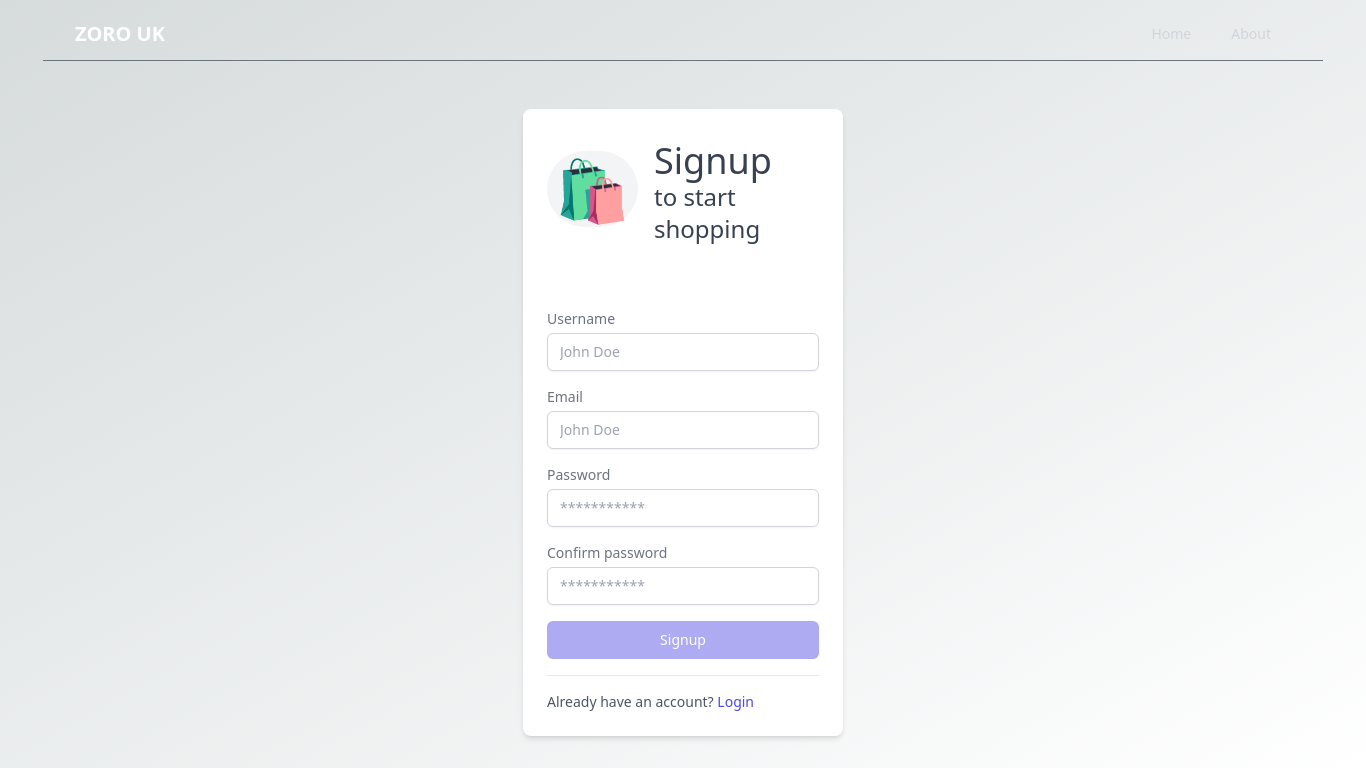
Test: SignupPage › displays banner if password and confirm password do not match
Type "john doe" into the field with id "username" at (683, 352), box left=547, top=333, right=819, bottom=371
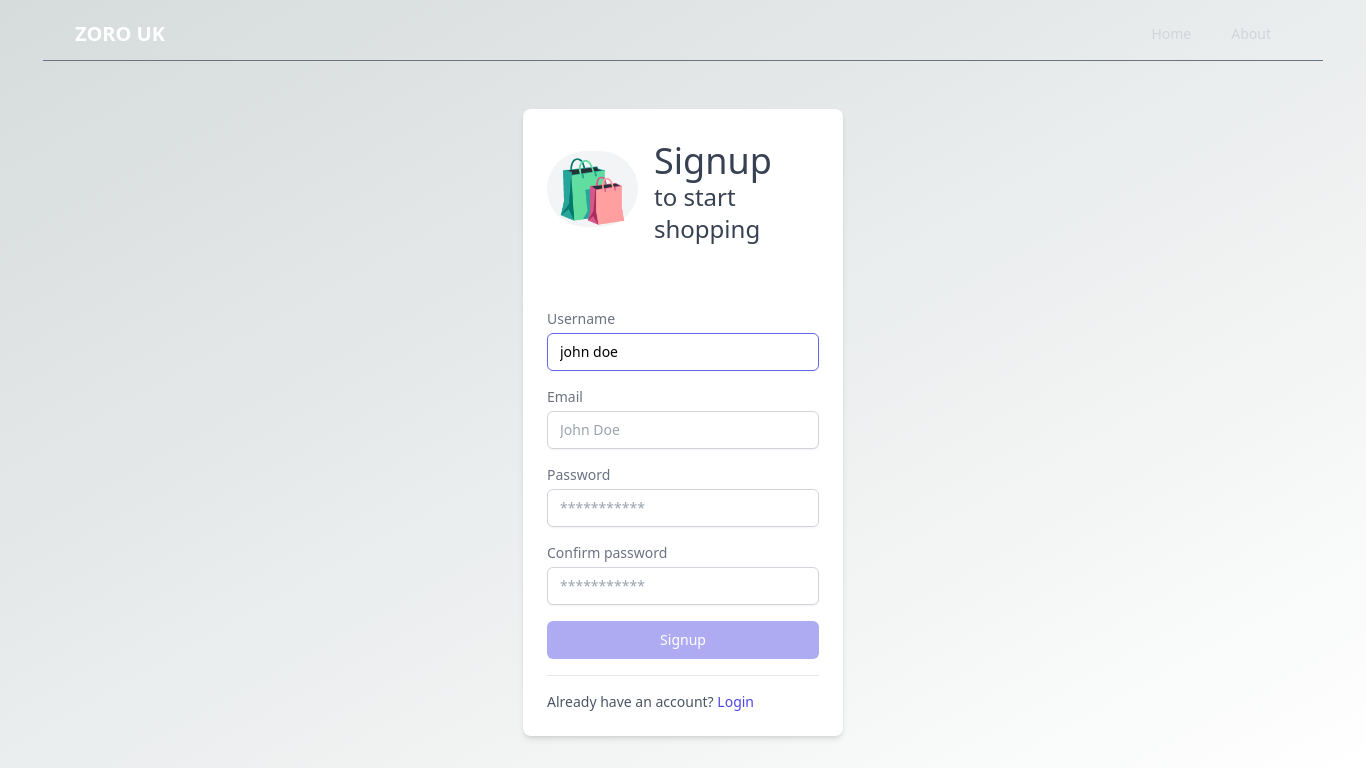
Type "test@example.com" into the field with id "emailname" at (683, 430), box left=547, top=411, right=819, bottom=449
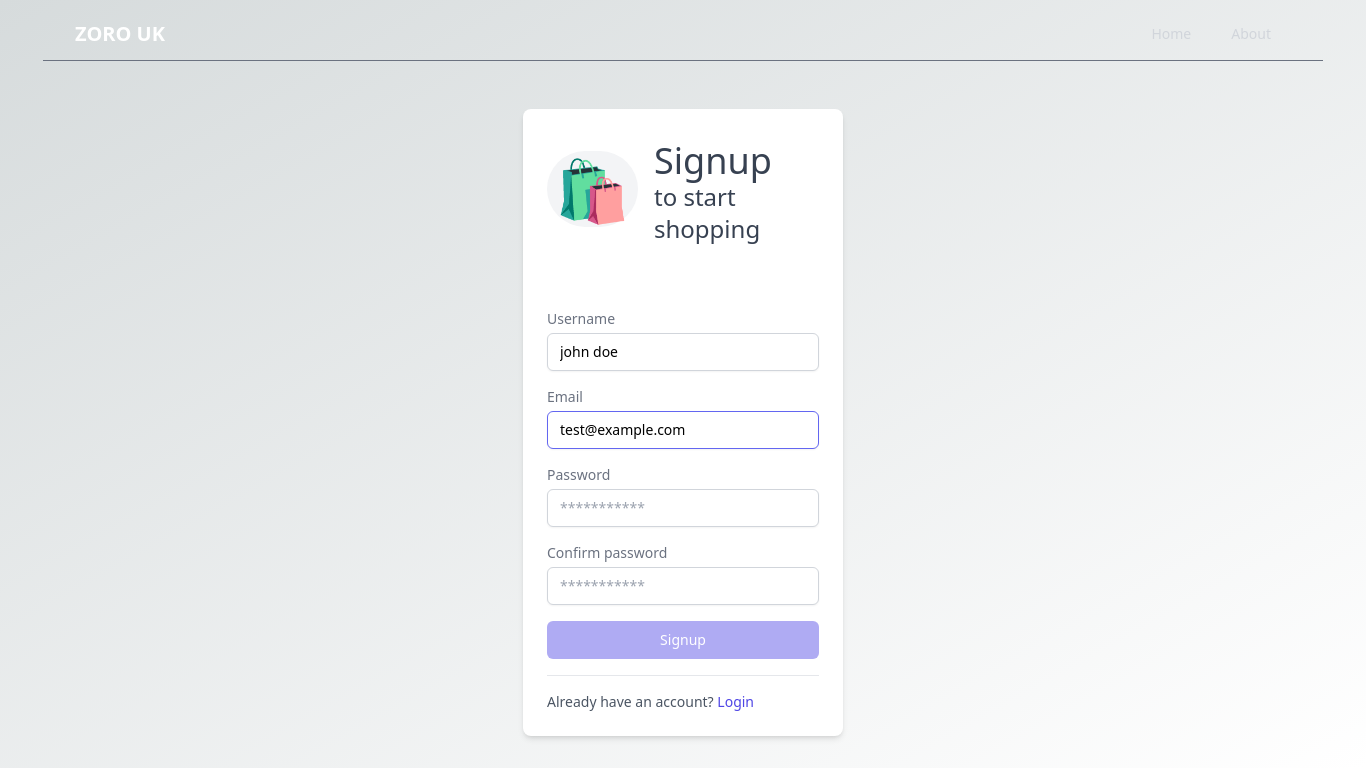
Type "password123" into the password field labelled "Password" at (683, 508), box left=547, top=489, right=819, bottom=527
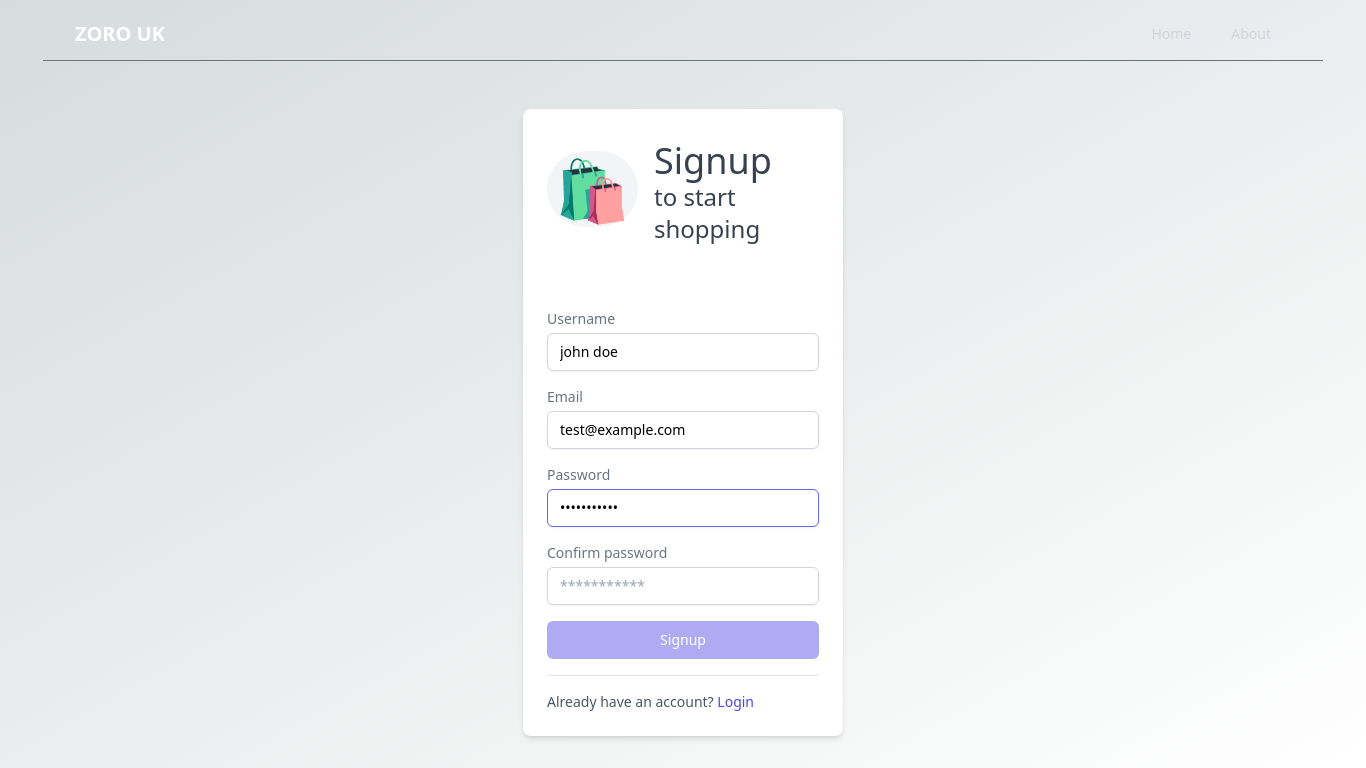
Type "password1234" into the password field labelled "Confirm password" at (683, 586), box left=547, top=567, right=819, bottom=605
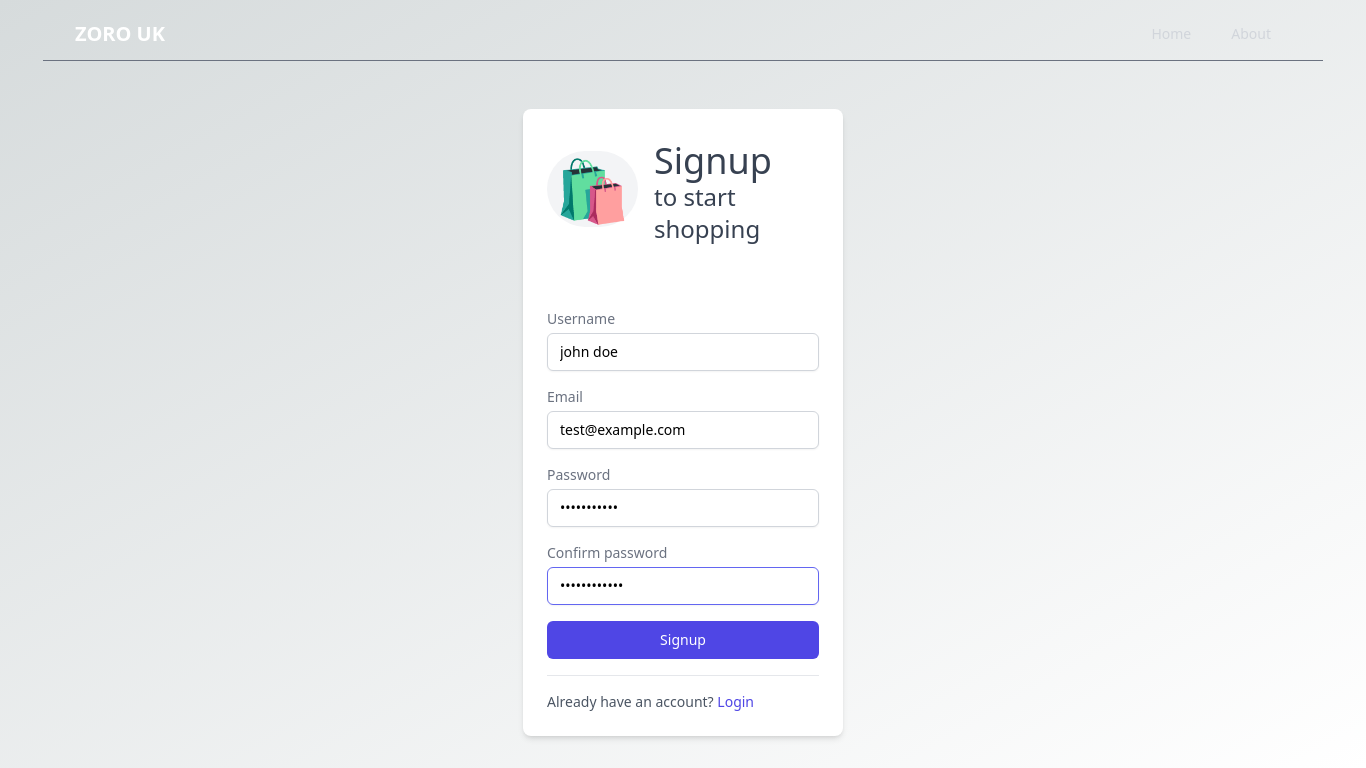
Click the submit button at (683, 640), box left=547, top=621, right=819, bottom=659
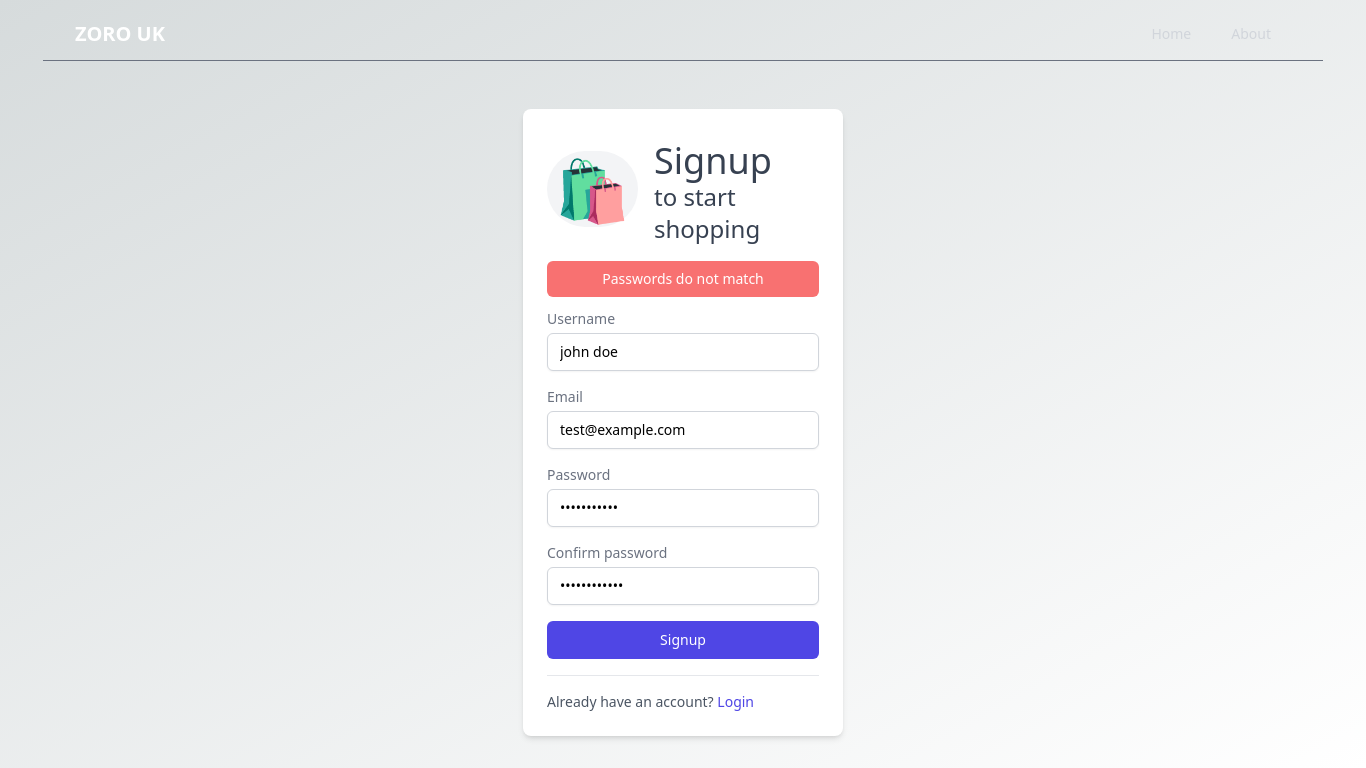
Expected: the header is shown, left=547, top=261, right=819, bottom=297
